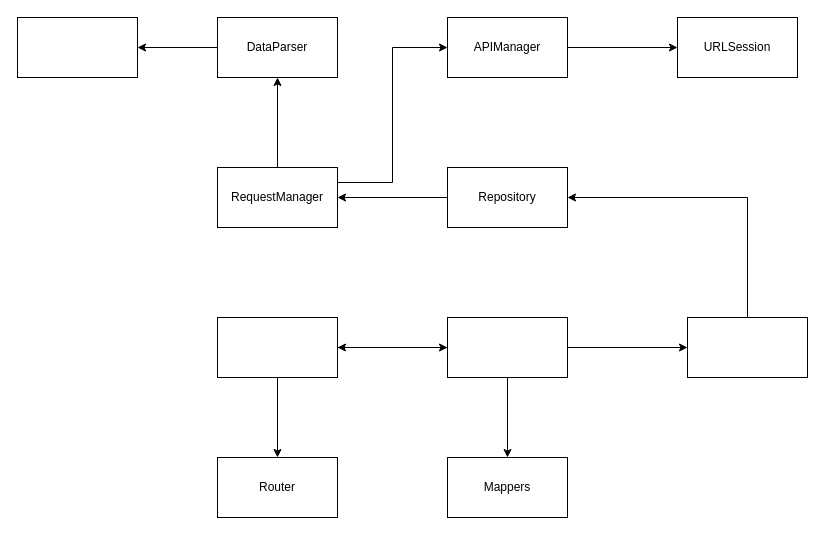
This 825x535 diagram has some shape labels left out. The shapes that lost their labels are listed below. From the top down, each one's box as (x1, y1, x2, y2) in pixels, then its label:
(16, 16, 138, 78): JSONDecoder
(216, 316, 338, 378): ViewController
(446, 316, 568, 378): ViewModel
(686, 316, 808, 378): Interactor
